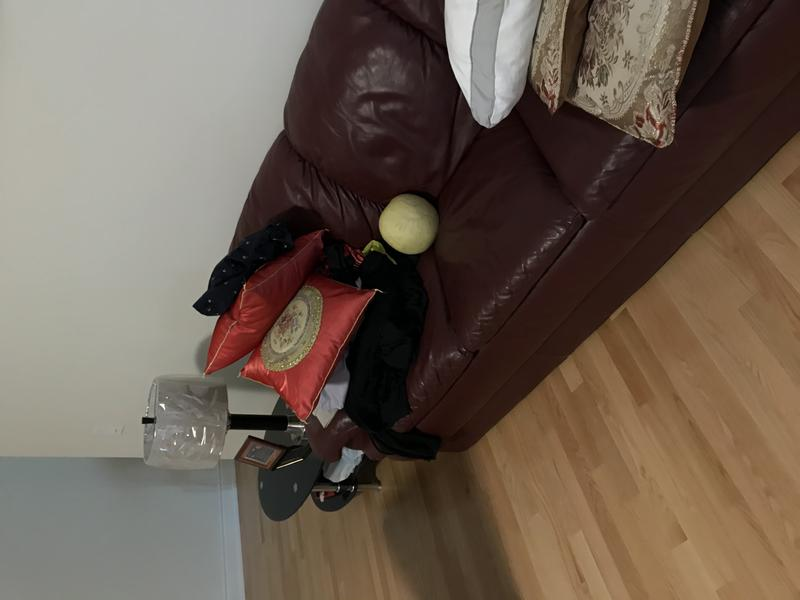honeydew: (375, 187, 442, 261)
